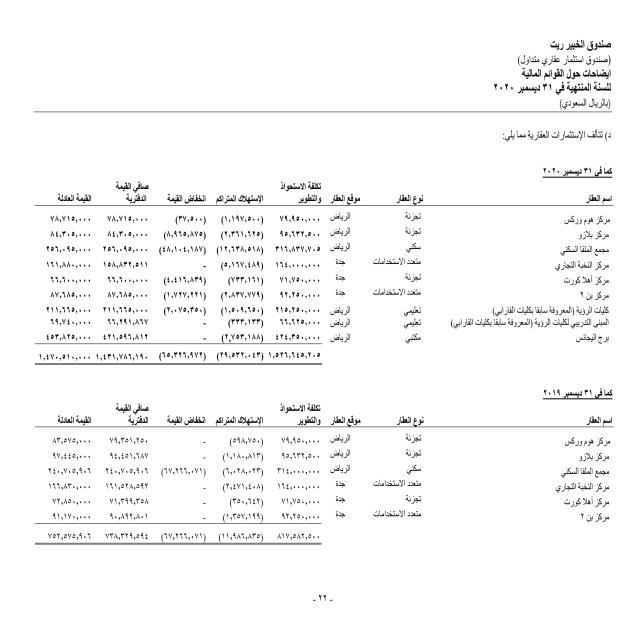notes: (499, 67, 616, 83)
table: (19, 190, 616, 381), (26, 414, 622, 553)
